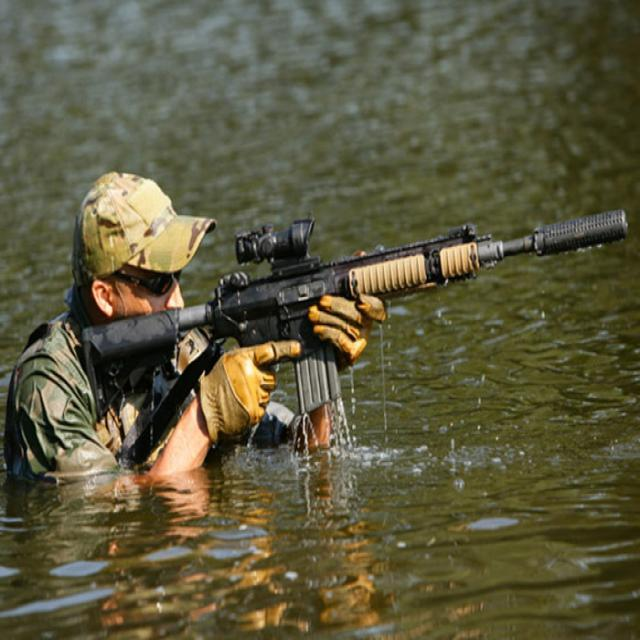rifle: (67, 198, 628, 422)
